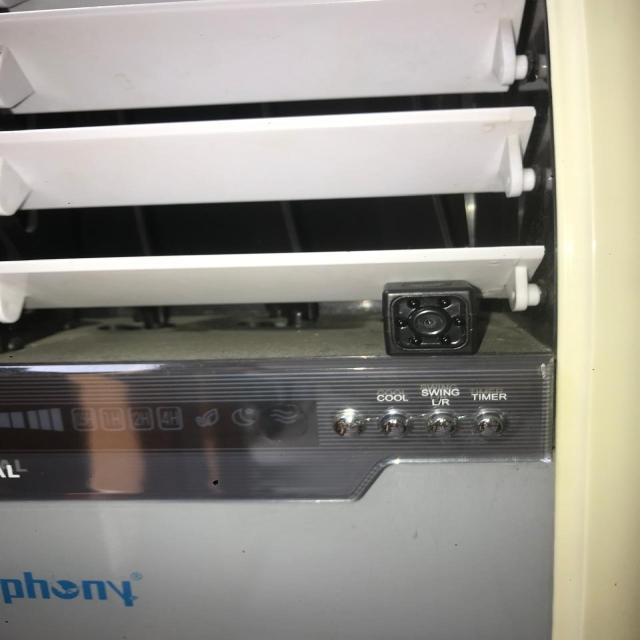hidden camera: (412, 310, 446, 336)
